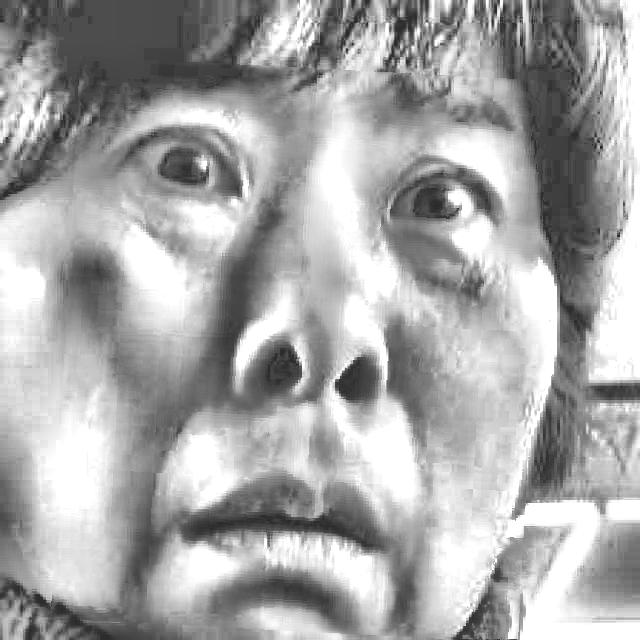fear: (58, 62, 540, 637)
